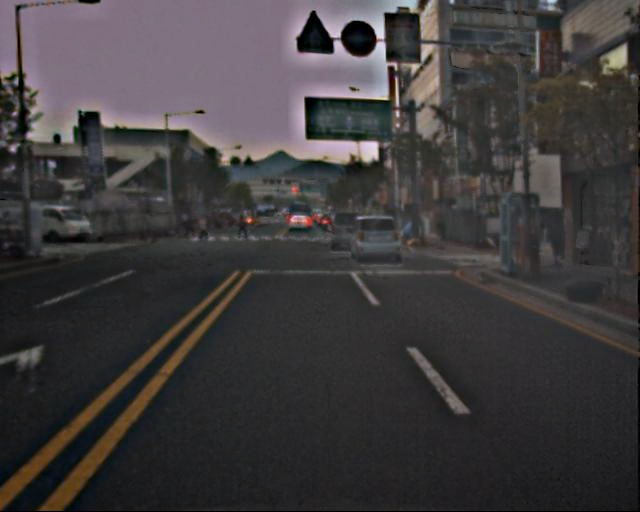person: (545, 211, 569, 270), (184, 210, 196, 239), (238, 213, 249, 241), (198, 214, 209, 241)
